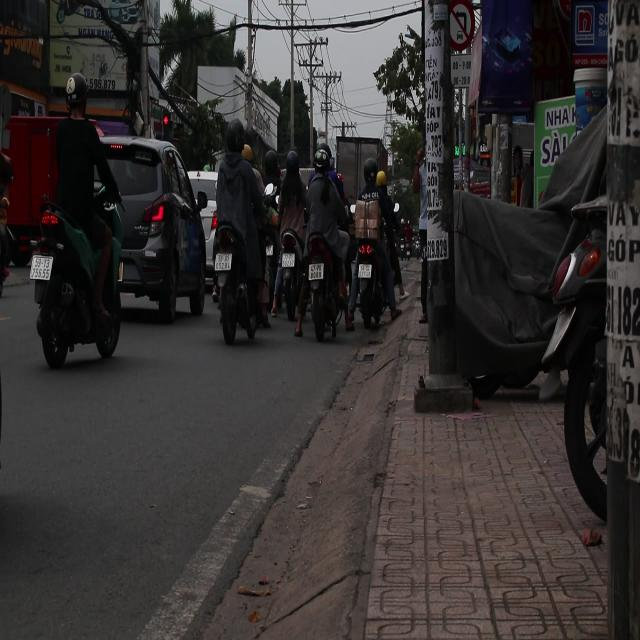car: (101, 137, 208, 324), (187, 170, 219, 228)
motorbike: (30, 199, 125, 367), (213, 226, 261, 343), (309, 238, 339, 334), (359, 230, 381, 326), (277, 222, 297, 324)
